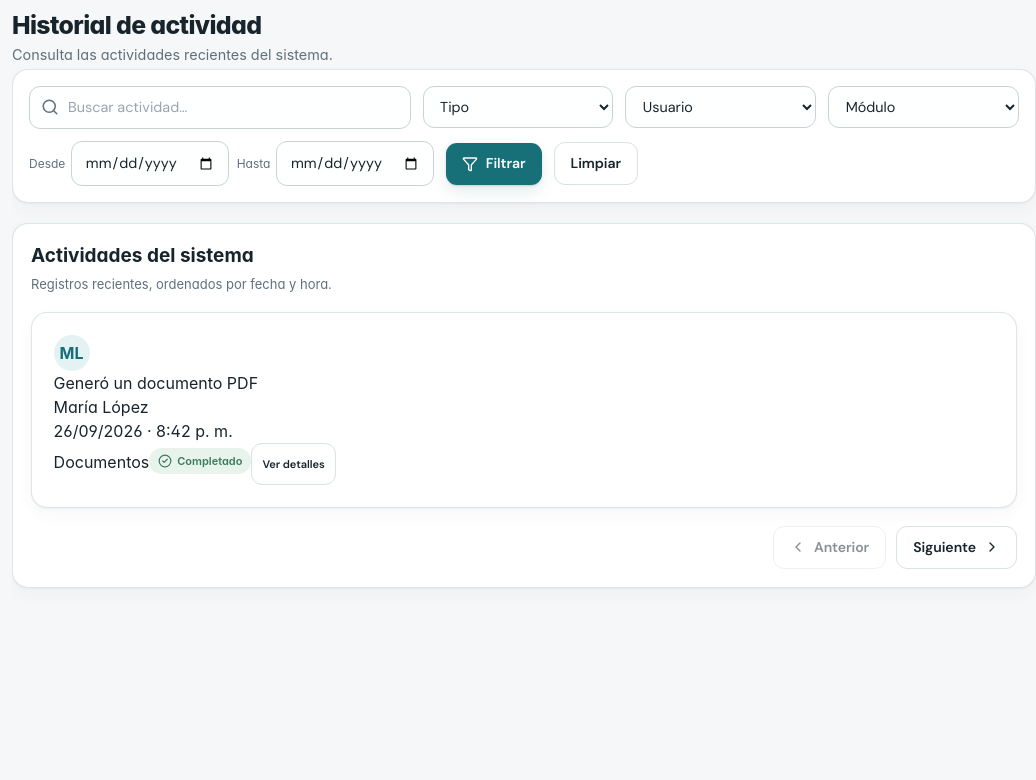
movil muestra tarjetas con campos seguros y reutiliza consulta por cursor
Expected: the text "María López" is shown, [54,397,149,417]
Expected: the text "26/09/2026 · 8:42 p. m." is shown, [54,421,233,441]
Click the button "Siguiente" at (957, 547), box [896,526,1017,568]
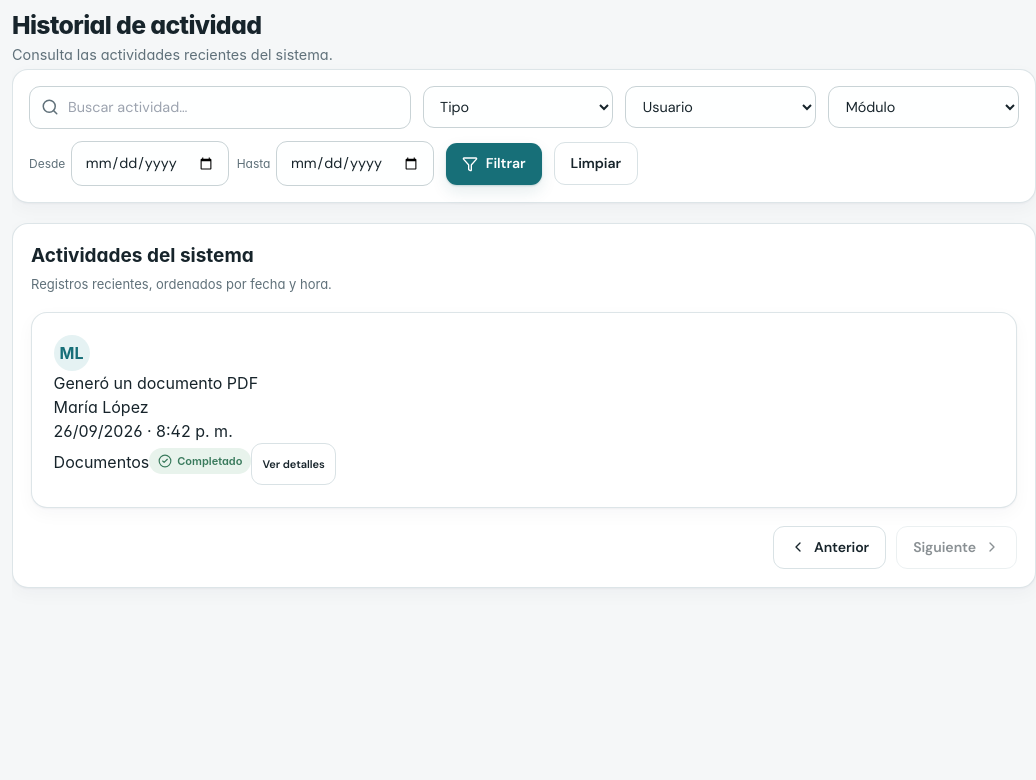
Expected: the heading "Generó un documento PDF" is shown, [54,373,258,393]
Expected: the button "Siguiente" is disabled, [896,526,1017,568]
